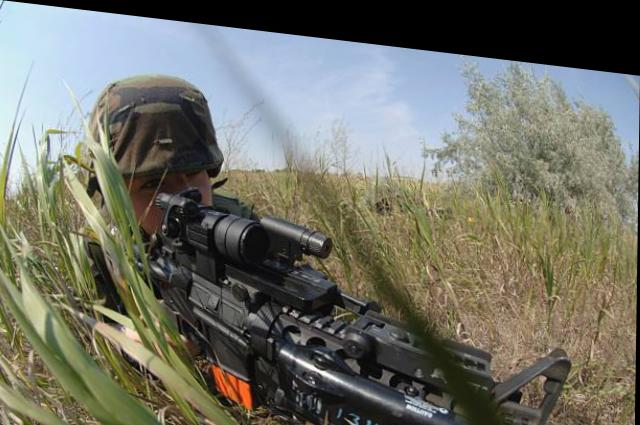other: (60, 72, 226, 330)
